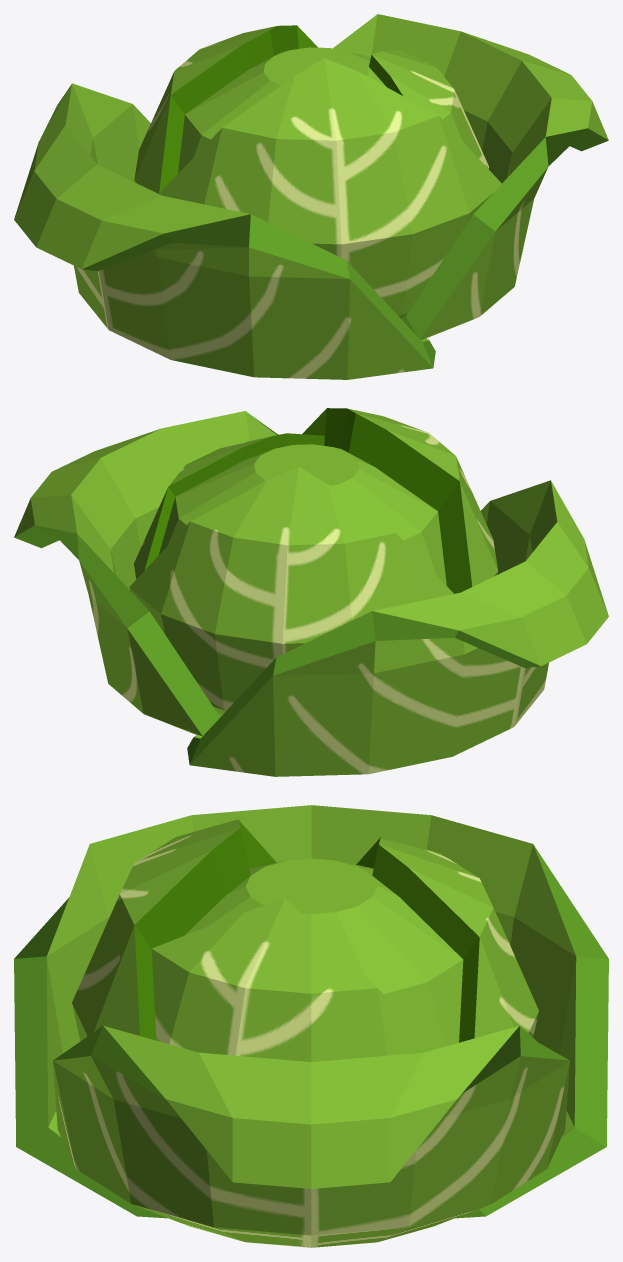
The model's file is Cabbage_01.fbx.
The picture shows the model from 3 angles, top to bottom: view 1: azimuth 30°, elevation 25°; view 2: azimuth 150°, elevation 25°; view 3: azimuth 270°, elevation 25°; orthographic projection. The views are drawn at different scales.
Parts seen in each view (by area): view 1: Cabbage_01; view 2: Cabbage_01; view 3: Cabbage_01.
Boxes of the visible parts, x1=… form: Cabbage_01: x1=14, y1=14, x2=608, y2=379; Cabbage_01: x1=14, y1=408, x2=608, y2=776; Cabbage_01: x1=14, y1=805, x2=608, y2=1247.
Bounding box in the file's own units: 65.98 × 32.5 × 49.67.
1 material, 1 textured.
